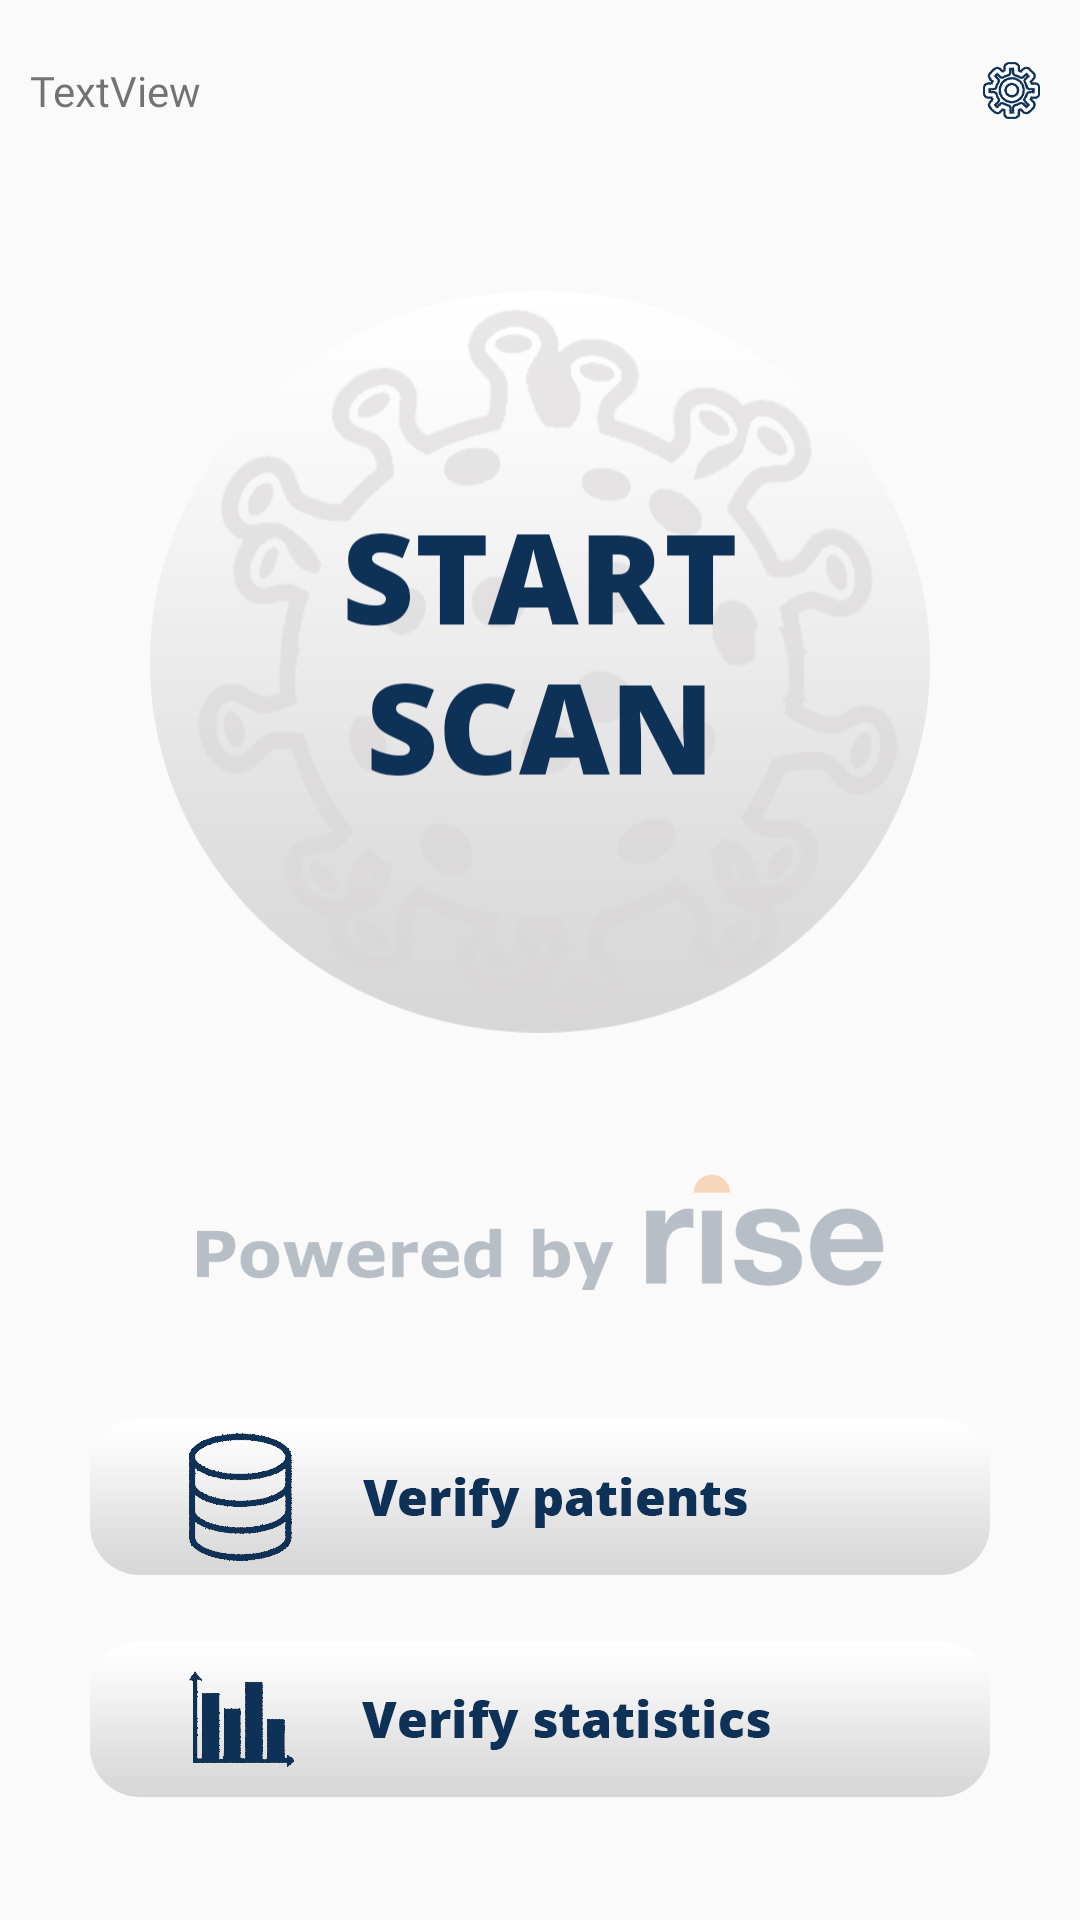

Named icons in this screenshot (1080w x 1920h) and their centers, point (x, y):
settings: point (1011, 90)
